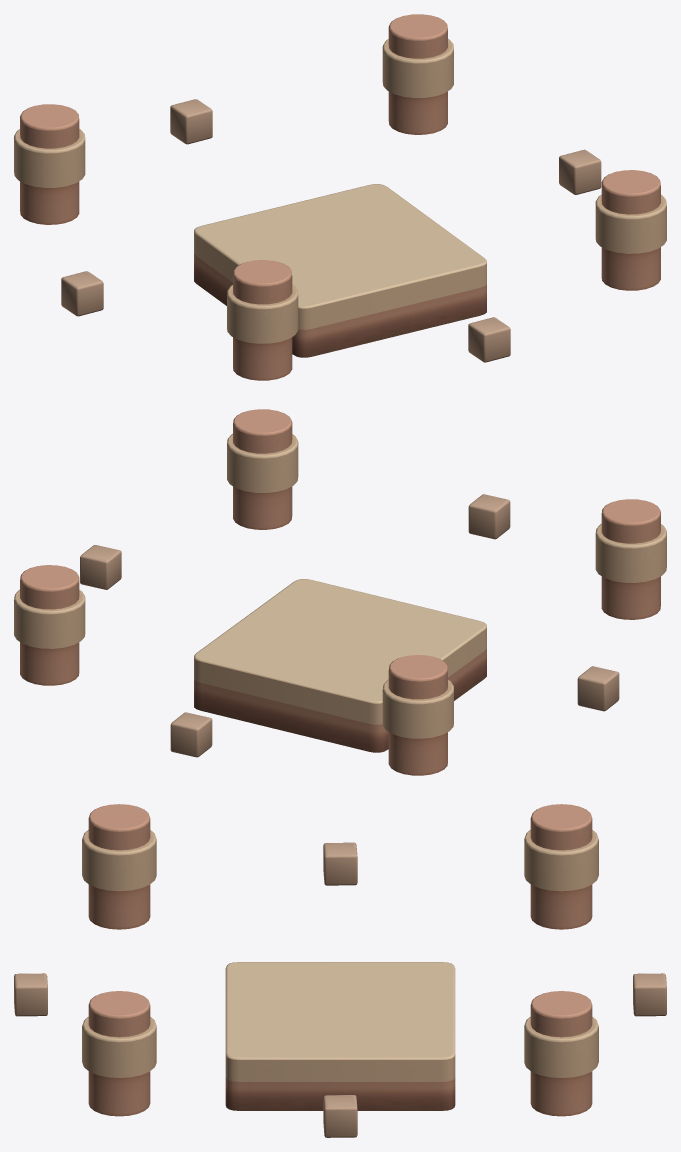
The model's file is Props.fbx.
3 views of the same model, one above another, from view 1: azimuth 30°, elevation 25°; view 2: azimuth 150°, elevation 25°; view 3: azimuth 270°, elevation 25° (orthographic). The views are drawn at different scales.
Parts seen in each view (by area): view 1: Box02, Cylinder-2 (1), Cylinder-2 (3), Cylinder-2 (2), Cylinder-2, Box1-5 (9), Box1-5 (10), Box1-5 (8), Box1-5 (7); view 2: Box02, Cylinder-2 (3), Cylinder-2 (1), Cylinder-2, Cylinder-2 (2), Box1-5 (10), Box1-5 (8), Box1-5 (9), Box1-5 (7); view 3: Box02, Cylinder-2, Cylinder-2 (2), Cylinder-2 (1), Cylinder-2 (3), Box1-5 (8), Box1-5 (7), Box1-5 (9), Box1-5 (10).
Boxes of the visible parts, x1,y1,x2,y2 form: Box02: (194,184,486,357); Cylinder-2 (1): (595,170,666,290); Cylinder-2 (3): (382,14,453,134); Cylinder-2 (2): (14,104,85,224); Cylinder-2: (227,260,298,380); Box1-5 (9): (468,317,510,362); Box1-5 (10): (170,99,212,144); Box1-5 (8): (61,271,103,316); Box1-5 (7): (559,149,601,194); Box02: (194,579,486,752); Cylinder-2 (3): (14,565,85,685); Cylinder-2 (1): (227,409,298,529); Cylinder-2: (595,499,666,619); Cylinder-2 (2): (382,655,453,775); Box1-5 (10): (170,712,212,757); Box1-5 (8): (577,666,619,711); Box1-5 (9): (468,494,510,539); Box1-5 (7): (80,545,121,589); Box02: (225,962,455,1110); Cylinder-2: (82,804,156,929); Cylinder-2 (2): (524,804,598,929); Cylinder-2 (1): (82,991,156,1116); Cylinder-2 (3): (524,991,598,1116); Box1-5 (8): (323,842,357,885); Box1-5 (7): (323,1095,357,1137); Box1-5 (9): (14,973,47,1016); Box1-5 (10): (633,973,666,1016).
Size of the model in its own units: 28.54 by 7.62 by 29.54.
Materials: 3 (3 with a texture image).
